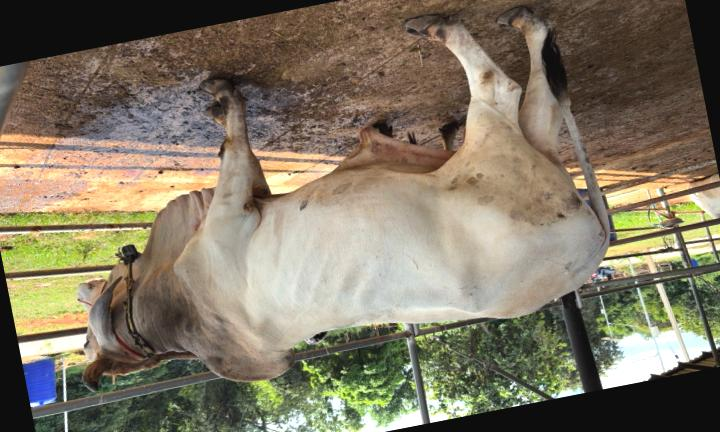Brahman: (78, 7, 609, 391)
